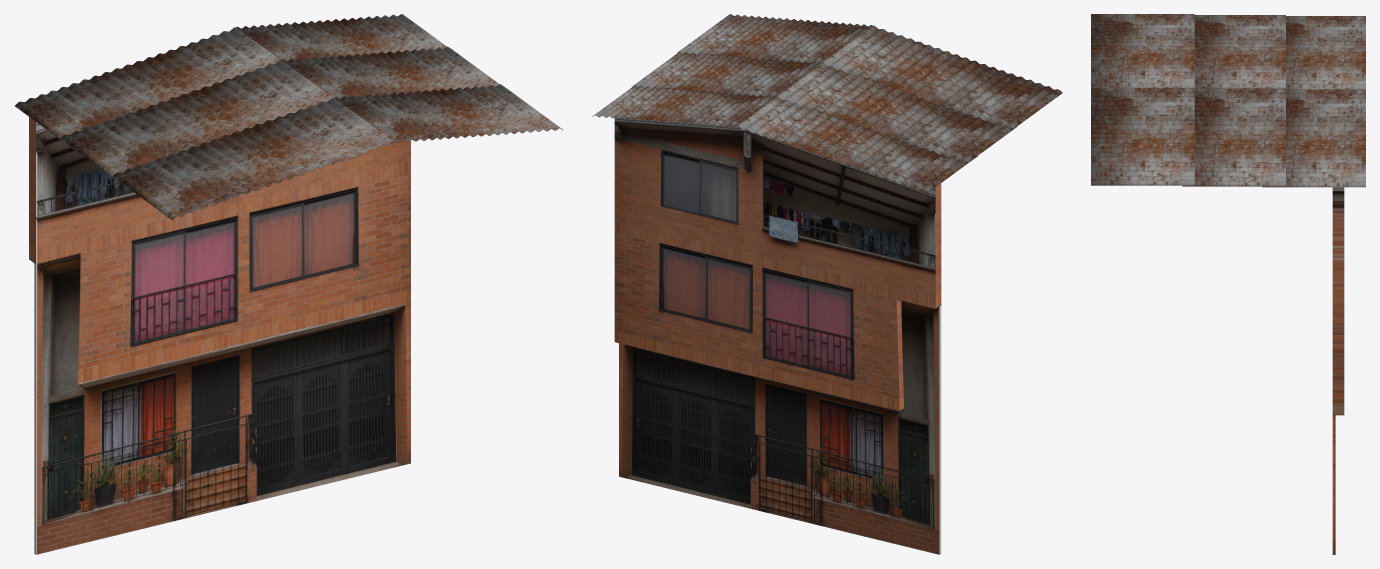
File: casa_izquierda_04.fbx
3 renders of one model, left to right at view 1: azimuth 30°, elevation 25°; view 2: azimuth 150°, elevation 25°; view 3: azimuth 270°, elevation 25°, orthographic. The views are drawn at different scales.
Parts seen in each view (by area): view 1: casa_izquierda_04.001, Techo_04.002; view 2: casa_izquierda_04.001, Techo_04.002; view 3: Techo_04.002, casa_izquierda_04.001.
Boxes of the visible parts, x1=… form: casa_izquierda_04.001: x1=29, y1=117, x2=410, y2=554; Techo_04.002: x1=15, y1=14, x2=562, y2=220; casa_izquierda_04.001: x1=614, y1=117, x2=941, y2=554; Techo_04.002: x1=592, y1=14, x2=1062, y2=193; Techo_04.002: x1=1091, y1=14, x2=1365, y2=187; casa_izquierda_04.001: x1=1332, y1=187, x2=1344, y2=554.
Size of the model in its own units: 711 by 802 by 497.
